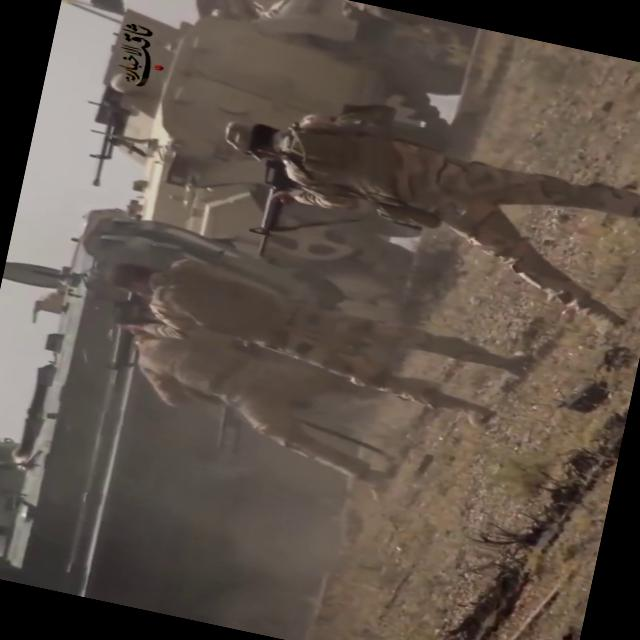long weapon: (89, 283, 163, 392), (237, 156, 306, 266)
